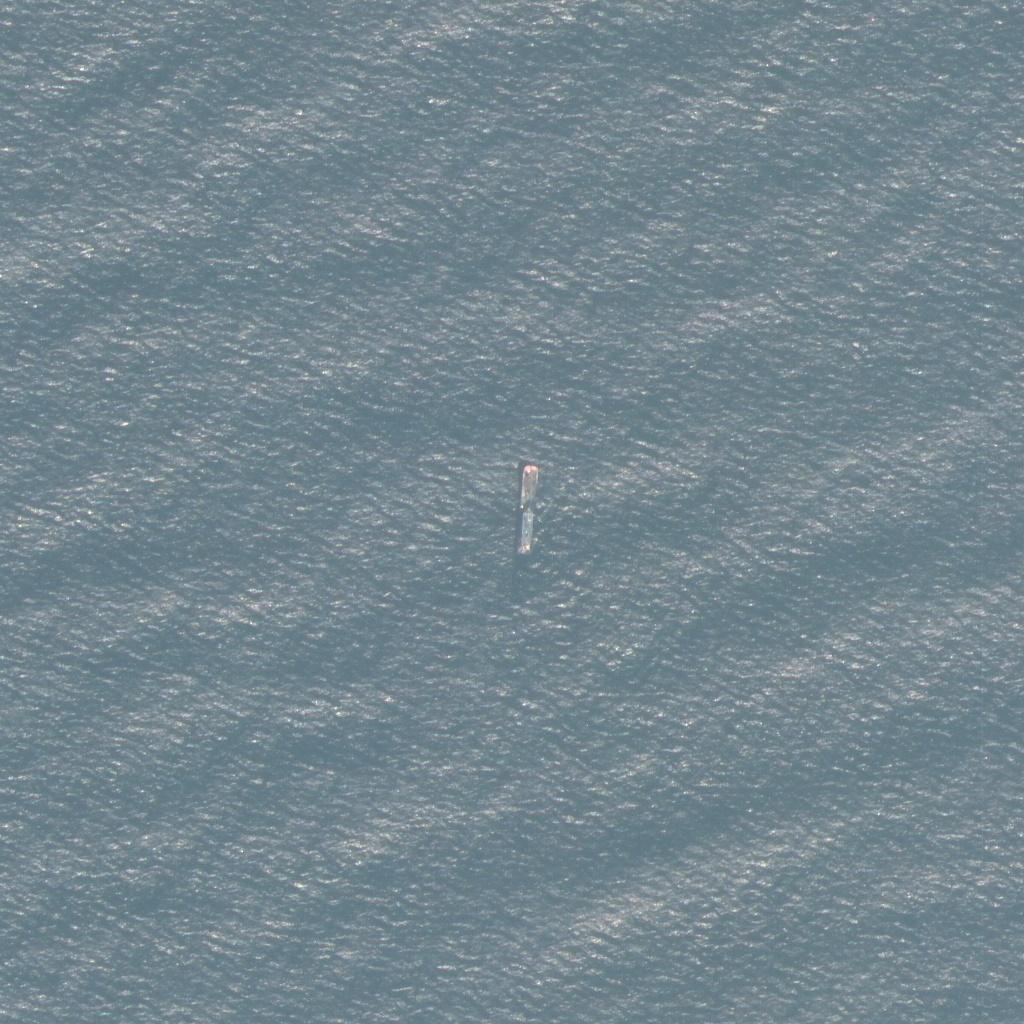ship: (515, 457, 543, 575)
